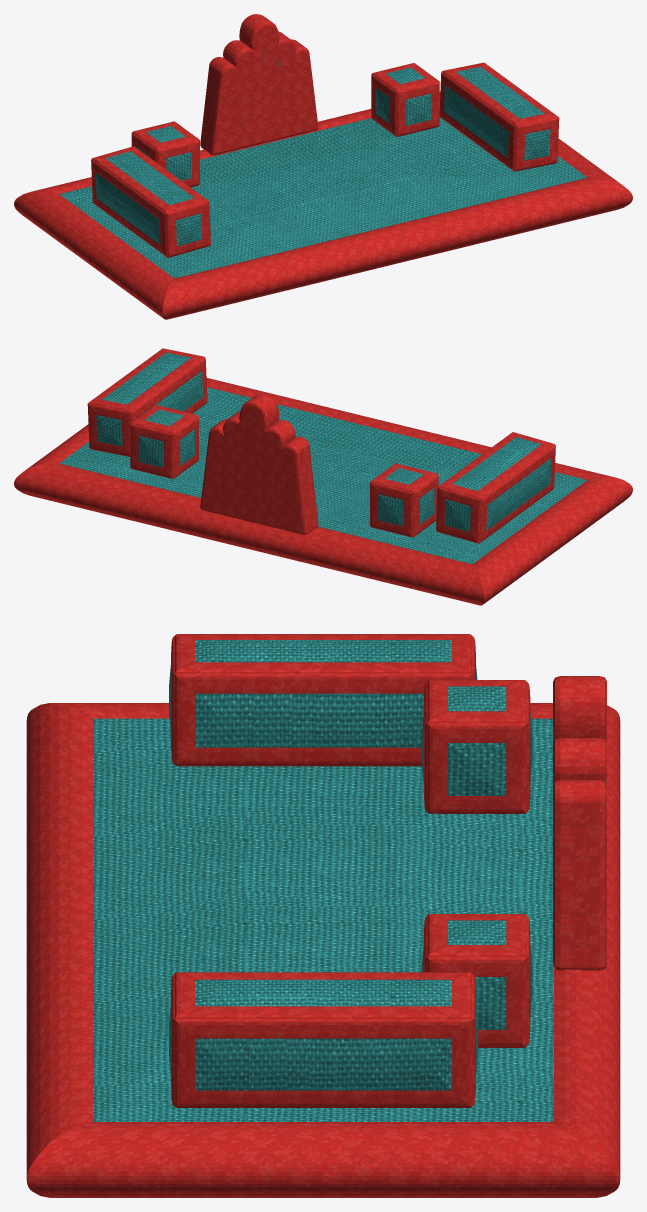
The model's file is Big_Cushion_02.FBX.
3 views of the same model, one above another, from view 1: azimuth 30°, elevation 25°; view 2: azimuth 150°, elevation 25°; view 3: azimuth 270°, elevation 25° (orthographic). The views are drawn at different scales.
Visible parts, largest first — view 1: Big_Cushion_02; view 2: Big_Cushion_02; view 3: Big_Cushion_02.
Part boxes in pixels (x1,y1,x2,y2): Big_Cushion_02: (14, 14, 632, 319); Big_Cushion_02: (14, 348, 632, 605); Big_Cushion_02: (26, 634, 620, 1197).
Bounding box in the file's own units: 173 × 53.61 × 94.74.
